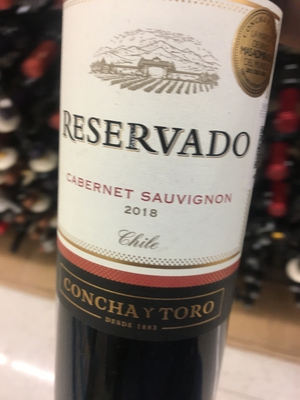reservado cabernet sauvignon: (55, 2, 280, 399)
